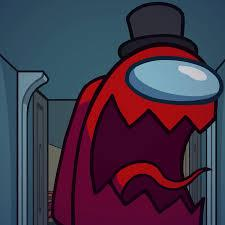amongus: (64, 40, 215, 223)
